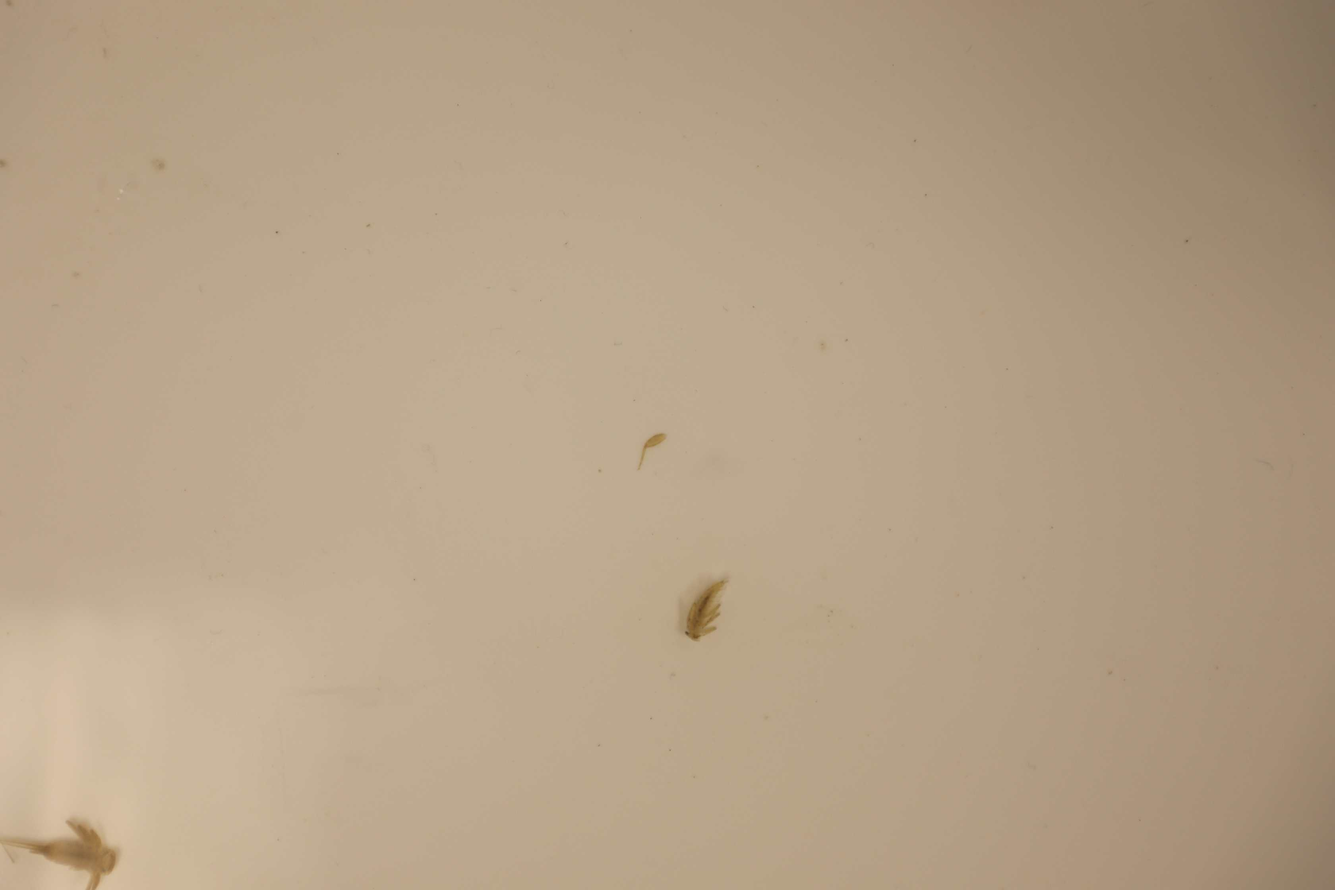Mayfly: (0, 810, 123, 890), (680, 573, 734, 645), (635, 428, 672, 475)
